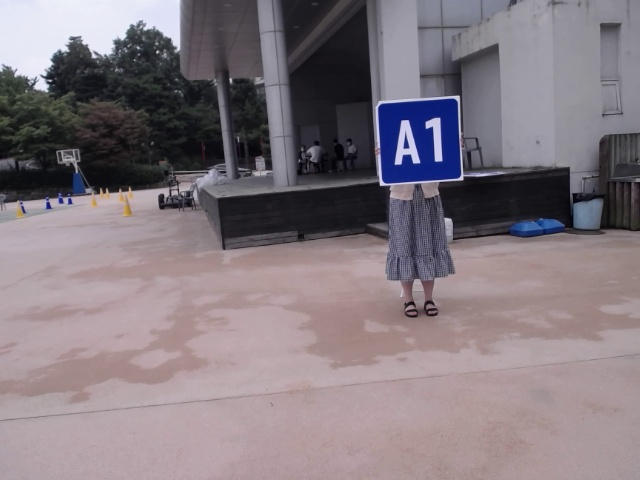delivery_a1: (376, 96, 463, 185)
